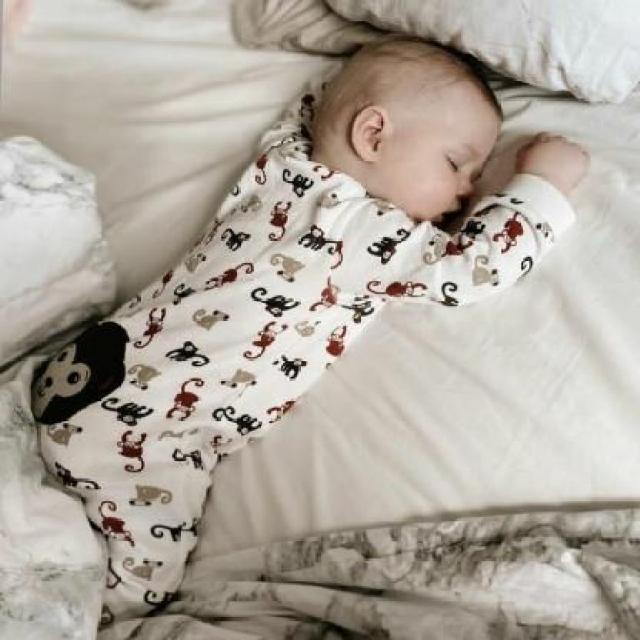baby: (0, 36, 588, 620)
